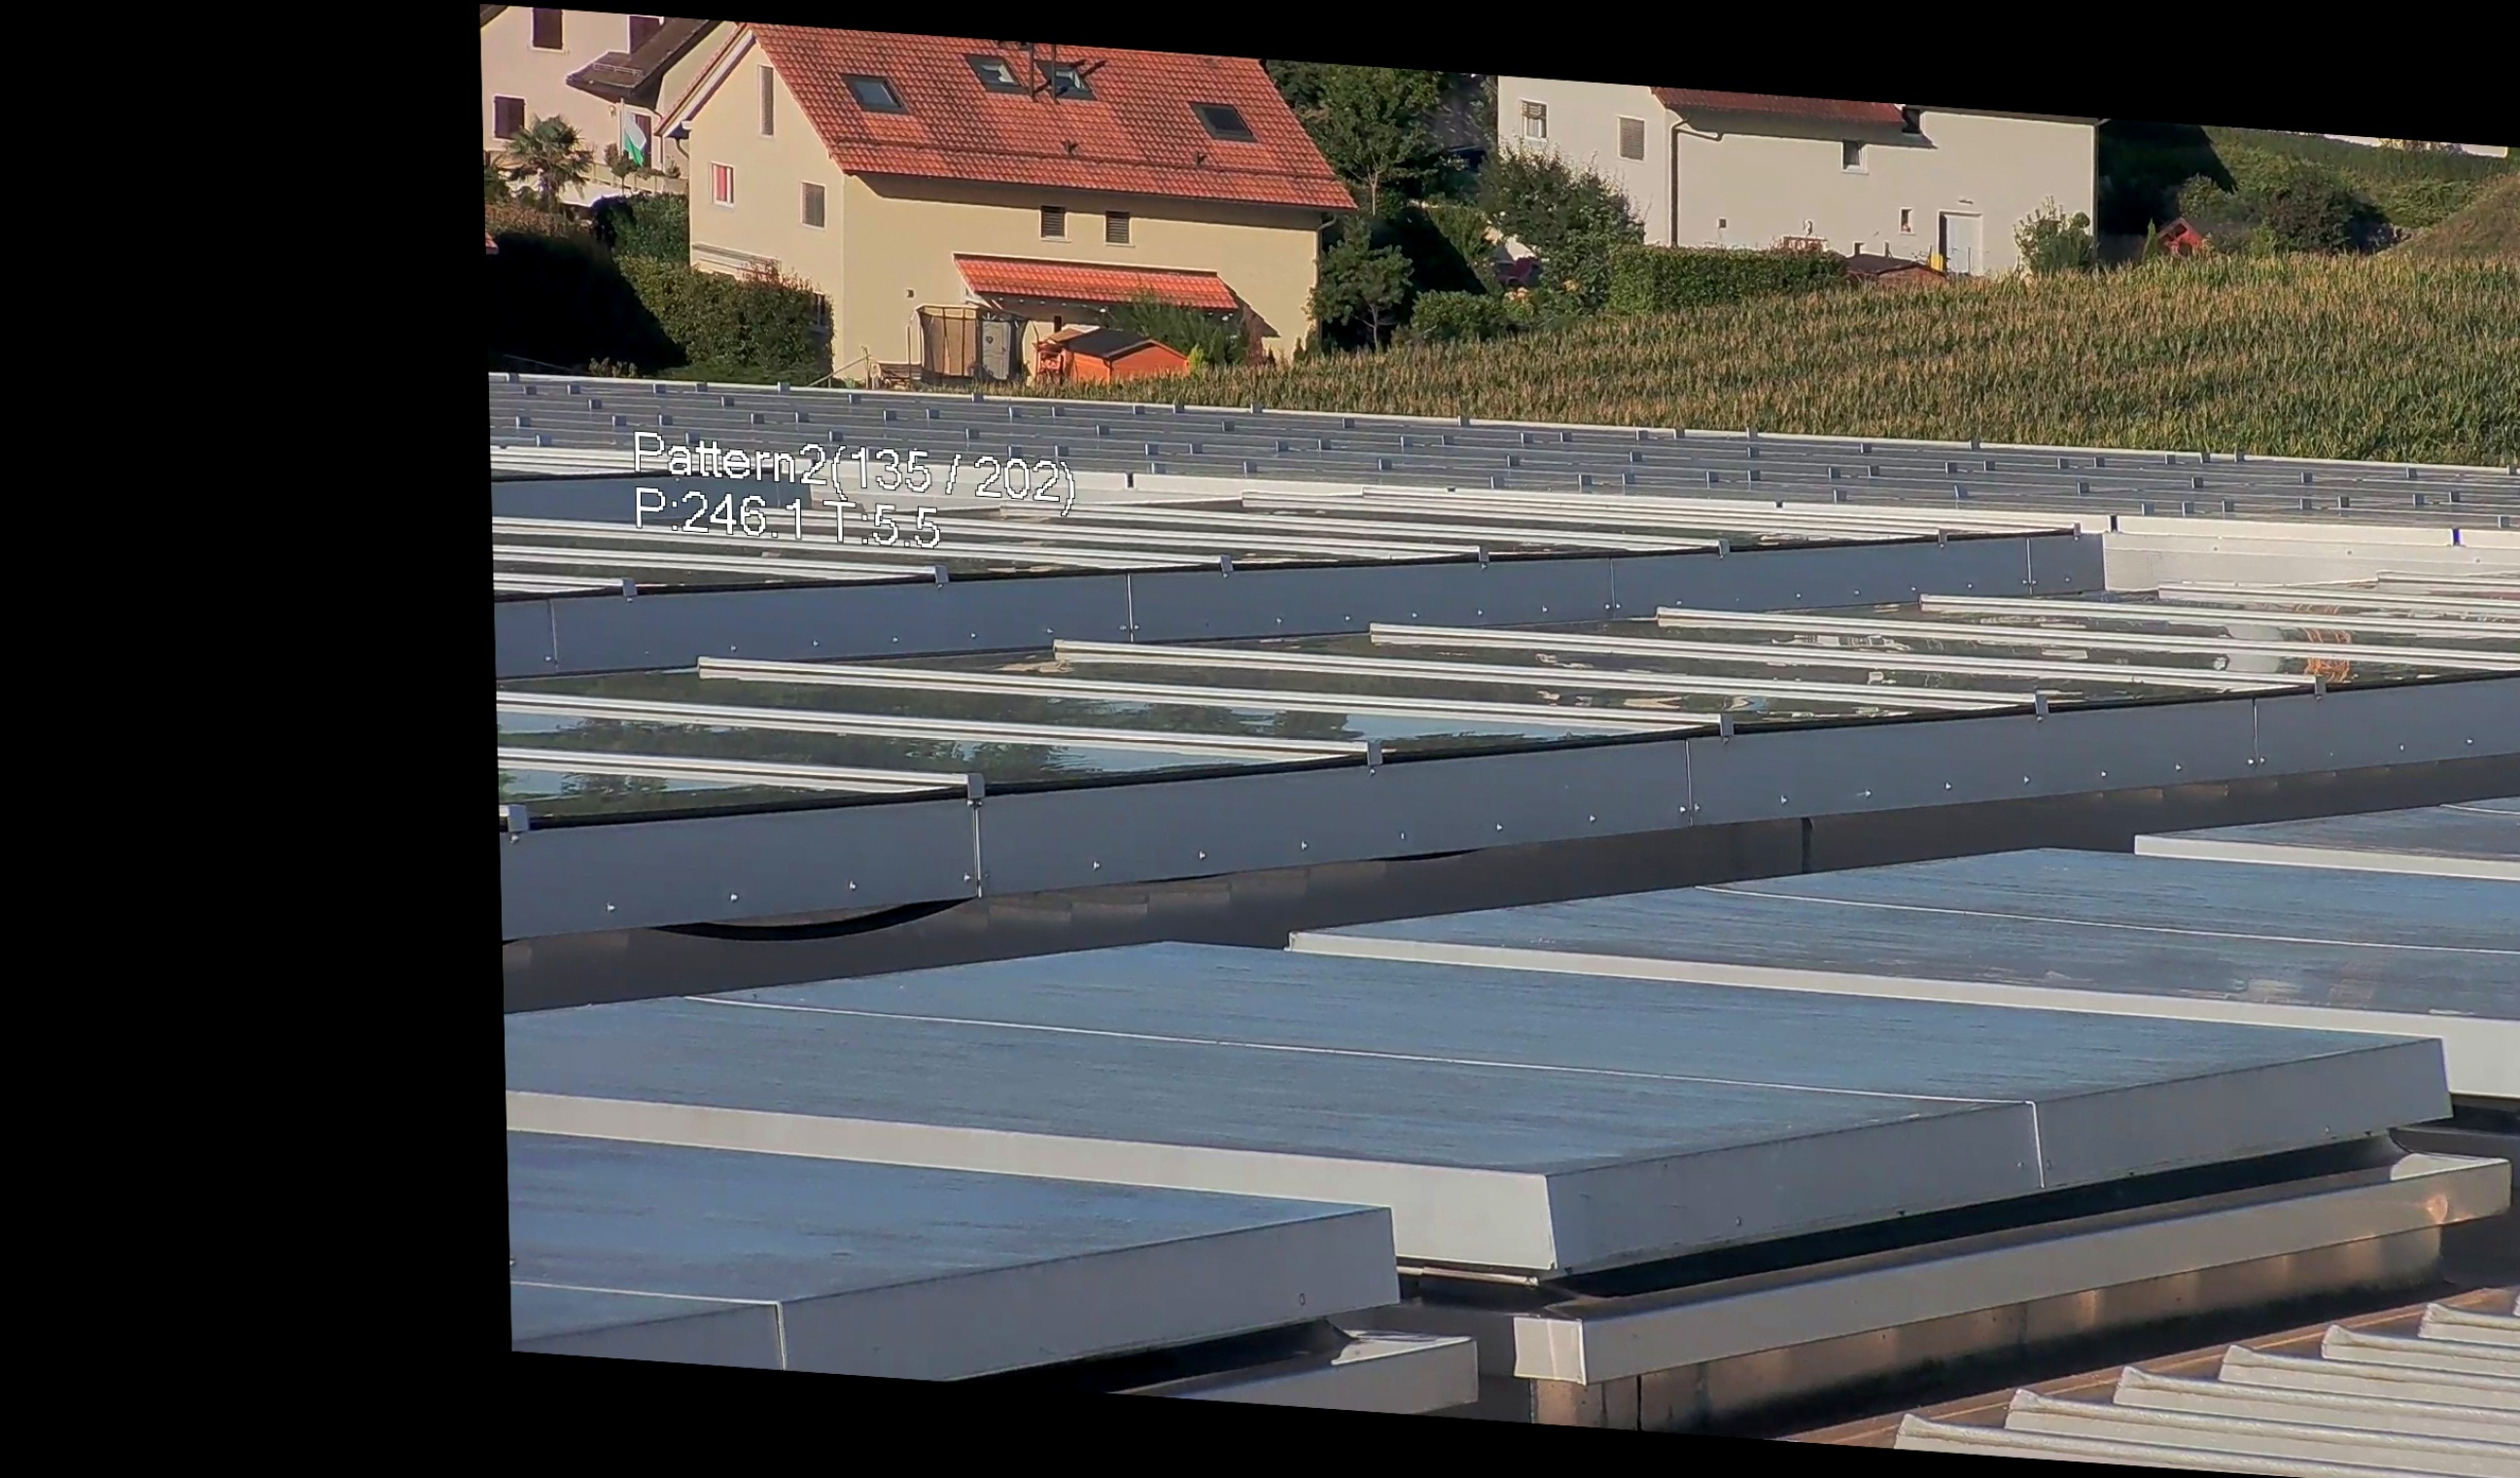Other: (2089, 118, 2260, 271)
